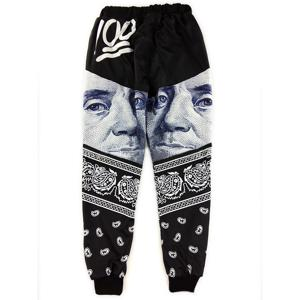C_W_pants: (76, 1, 216, 298)
